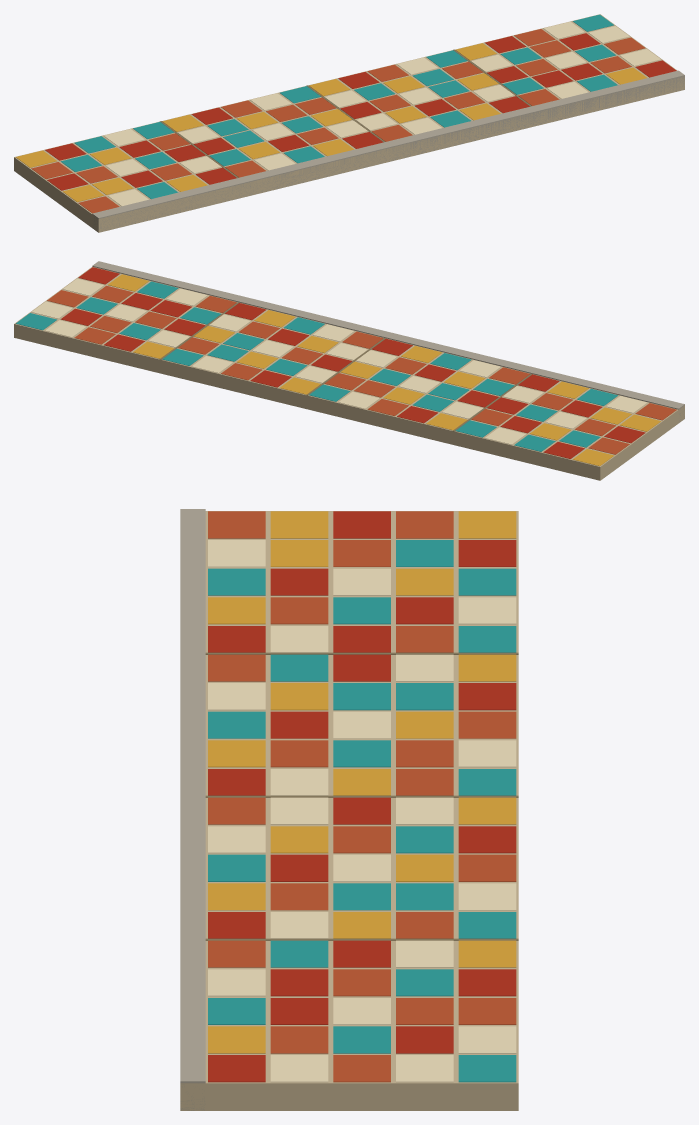
Rendered from suelo-aceras-ladrillo-acera-recta.glb.
The picture shows the model from 3 angles, top to bottom: view 1: azimuth 30°, elevation 25°; view 2: azimuth 150°, elevation 25°; view 3: azimuth 270°, elevation 25°; orthographic projection. The views are drawn at different scales.
Visible parts, largest first — view 1: acera_recta_AceraBase, acera_recta_Bordillo, acera_recta_BaldosaTerracota, acera_recta_BaldosaTurquesa, acera_recta_BaldosaCrema, acera_recta_BaldosaRoja, acera_recta_BaldosaMostaza, acera_recta_JuntaMosaico; view 2: acera_recta_AceraBase, acera_recta_BaldosaCrema, acera_recta_BaldosaTerracota, acera_recta_BaldosaTurquesa, acera_recta_BaldosaRoja, acera_recta_BaldosaMostaza, acera_recta_Bordillo, acera_recta_JuntaMosaico; view 3: acera_recta_AceraBase, acera_recta_BaldosaCrema, acera_recta_BaldosaTurquesa, acera_recta_BaldosaTerracota, acera_recta_BaldosaRoja, acera_recta_BaldosaMostaza, acera_recta_Bordillo, acera_recta_JuntaMosaico.
Part boxes in pixels (x1,y1,x2,y2): acera_recta_AceraBase: [14, 14, 684, 232]; acera_recta_Bordillo: [92, 70, 684, 232]; acera_recta_BaldosaTerracota: [31, 29, 645, 213]; acera_recta_BaldosaTurquesa: [61, 14, 617, 198]; acera_recta_BaldosaCrema: [104, 21, 660, 206]; acera_recta_BaldosaRoja: [45, 33, 676, 190]; acera_recta_BaldosaMostaza: [16, 43, 646, 202]; acera_recta_JuntaMosaico: [160, 49, 531, 177]; acera_recta_AceraBase: [14, 266, 684, 480]; acera_recta_BaldosaCrema: [31, 278, 647, 444]; acera_recta_BaldosaTerracota: [47, 286, 676, 454]; acera_recta_BaldosaTurquesa: [16, 281, 617, 451]; acera_recta_BaldosaRoja: [60, 267, 645, 458]; acera_recta_BaldosaMostaza: [108, 274, 660, 466]; acera_recta_Bordillo: [92, 261, 684, 422]; acera_recta_JuntaMosaico: [160, 302, 532, 431]; acera_recta_AceraBase: [180, 511, 518, 1110]; acera_recta_BaldosaCrema: [208, 540, 516, 1082]; acera_recta_BaldosaTurquesa: [208, 540, 516, 1082]; acera_recta_BaldosaTerracota: [208, 511, 516, 1082]; acera_recta_BaldosaRoja: [208, 511, 516, 1082]; acera_recta_BaldosaMostaza: [208, 511, 516, 1053]; acera_recta_Bordillo: [180, 509, 205, 1110]; acera_recta_JuntaMosaico: [205, 652, 518, 940].
Bounding box in the file's own units: 8 × 0.192 × 2.
